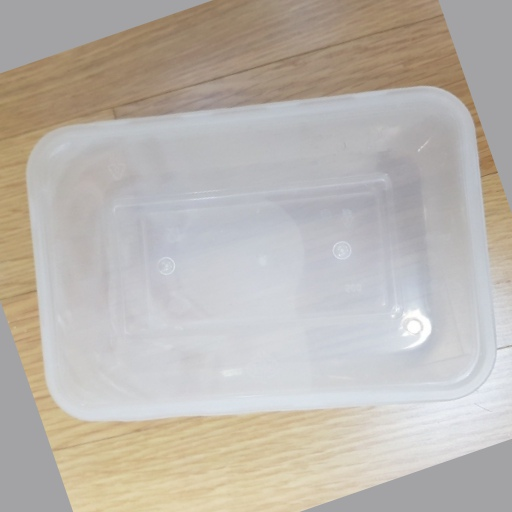Plastic_4: (25, 88, 498, 419)
